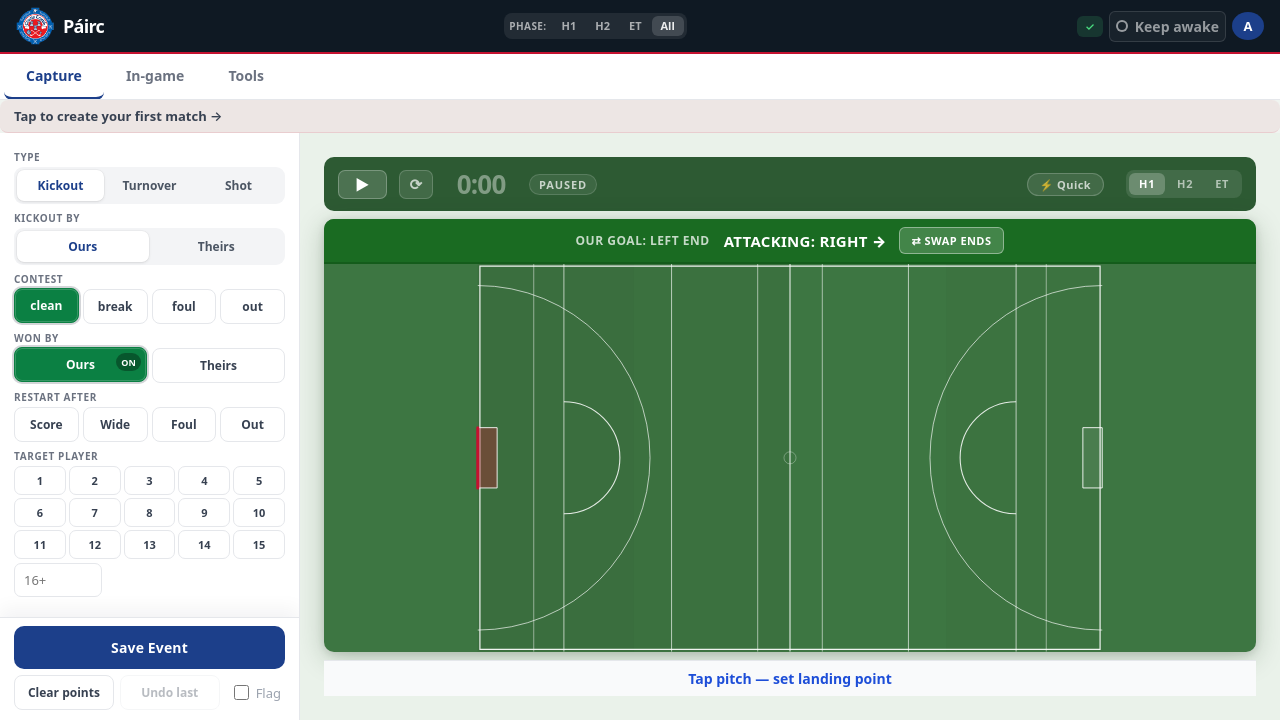
Test: App shell auth and sync › keeps the tactical board visible and usable without an active match
Click the tab "Tools": [246, 77] box [206, 54, 286, 100]
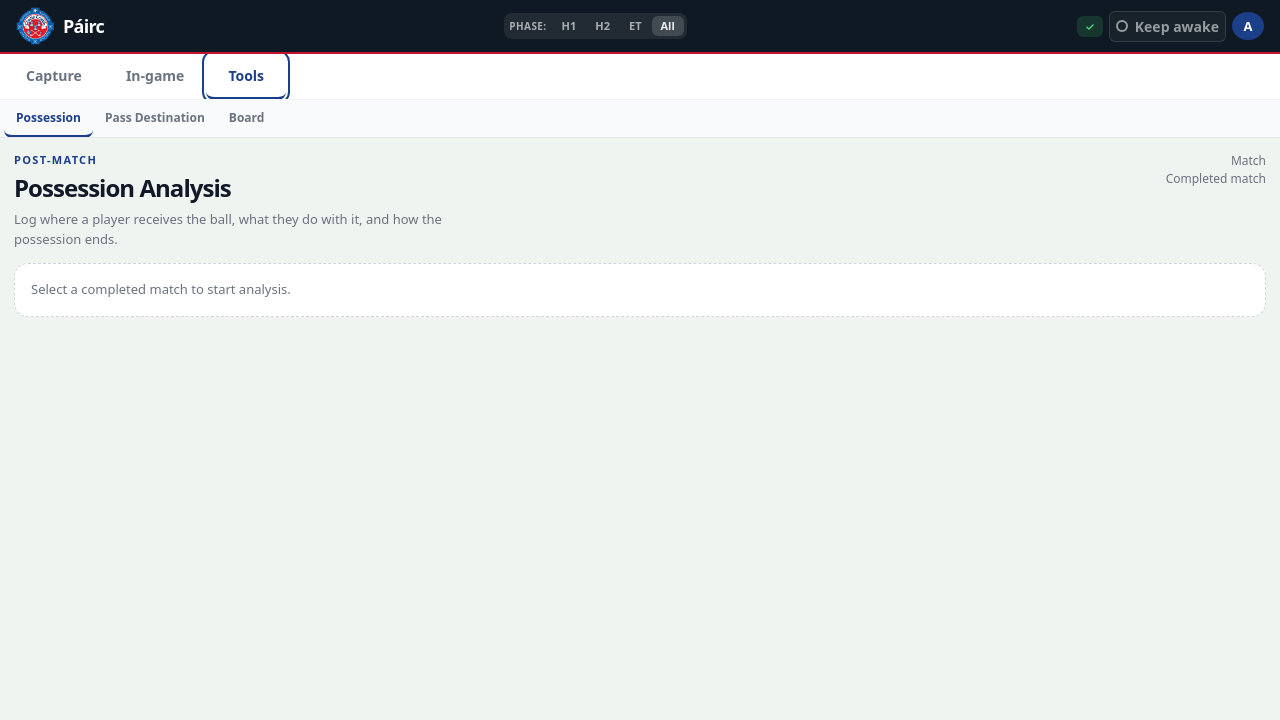
Click the tab "Board": [247, 119] box [217, 100, 276, 138]
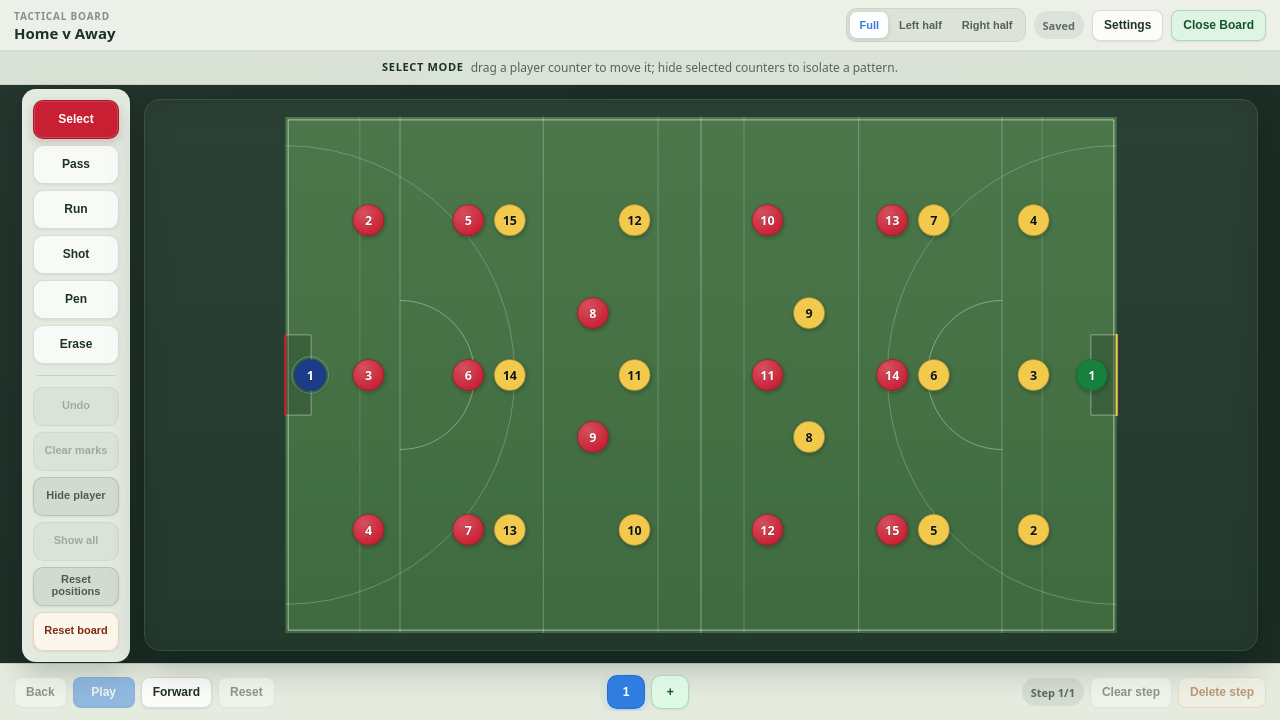
Result: the tab "Board" is shown at [217, 100, 276, 137]
Result: the element named "Tactical board" is shown
Result: the text "Select mode" is shown at [382, 60, 464, 75]
